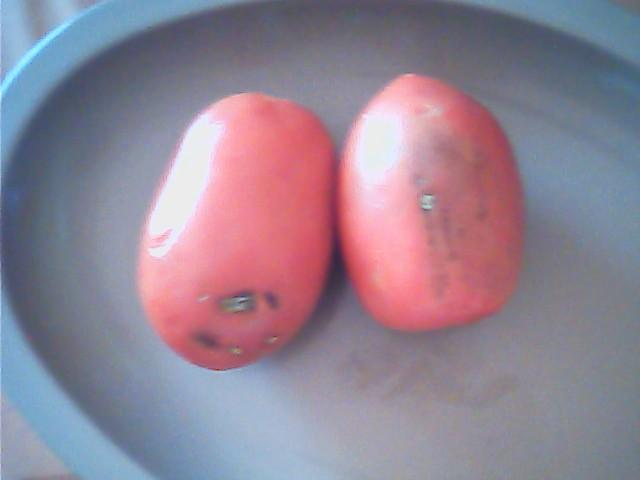defectuoso: (138, 93, 334, 376), (340, 73, 520, 332)
